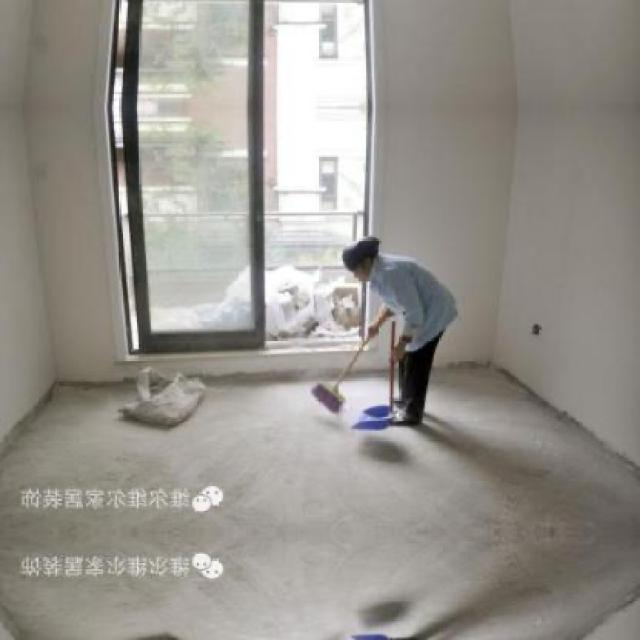con casco: (319, 222, 397, 292)
